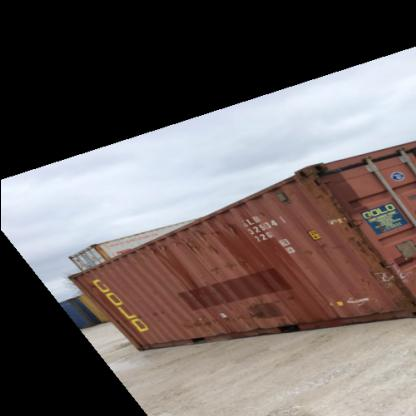Damage: (144, 212, 244, 262), (306, 181, 364, 242), (357, 247, 411, 305), (183, 300, 250, 332), (251, 289, 297, 308), (135, 303, 165, 325), (254, 209, 274, 225)
